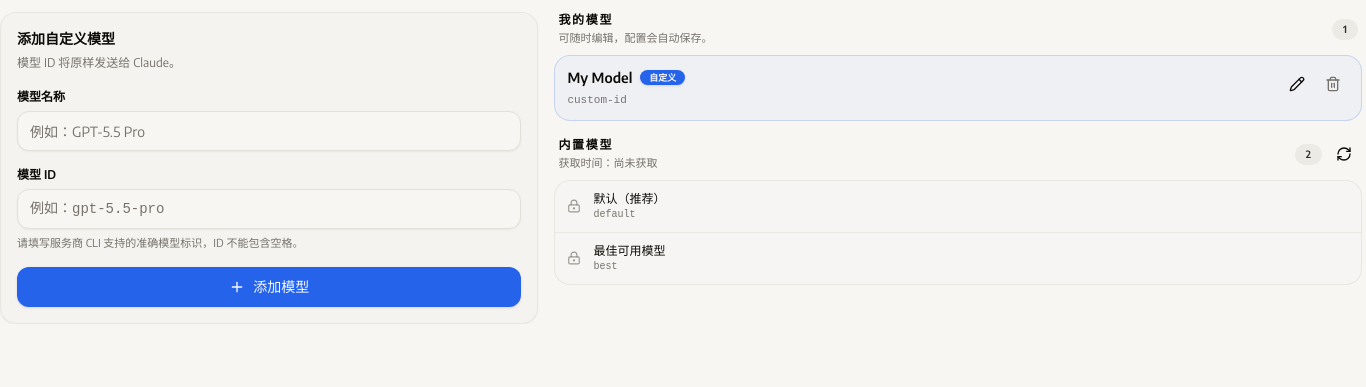
Test: the model settings form and built-in aliases render in zh-CN
Expected: the text "我的模型" is shown, [558,12,613,27]
Expected: the text "内置模型" is shown, [558,137,613,152]
Type "New Model" into the field labelled "模型名称" at coordinates (269, 131), box [17,111,521,151]
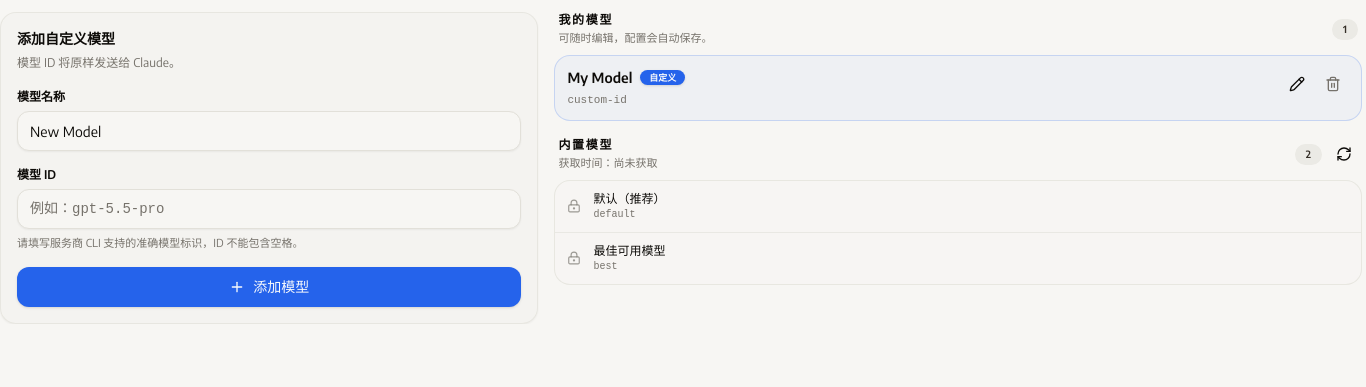
Type "new-model" into the field labelled "模型 ID" at coordinates (269, 209), box [17,189,521,229]
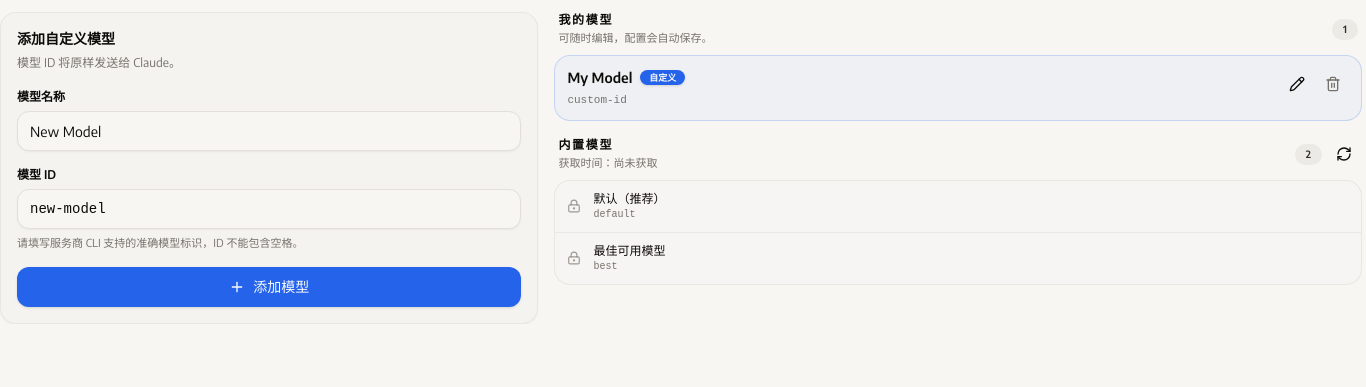
Click the button "添加模型" at coordinates (269, 287), box [17,267,521,307]
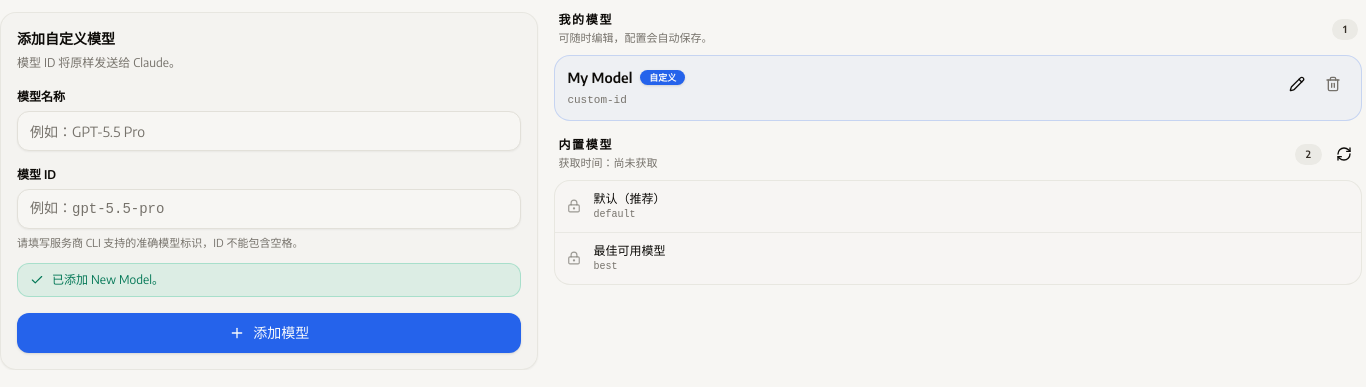
Result: the text "已添加 New Model。" is shown at [17,263,521,297]
